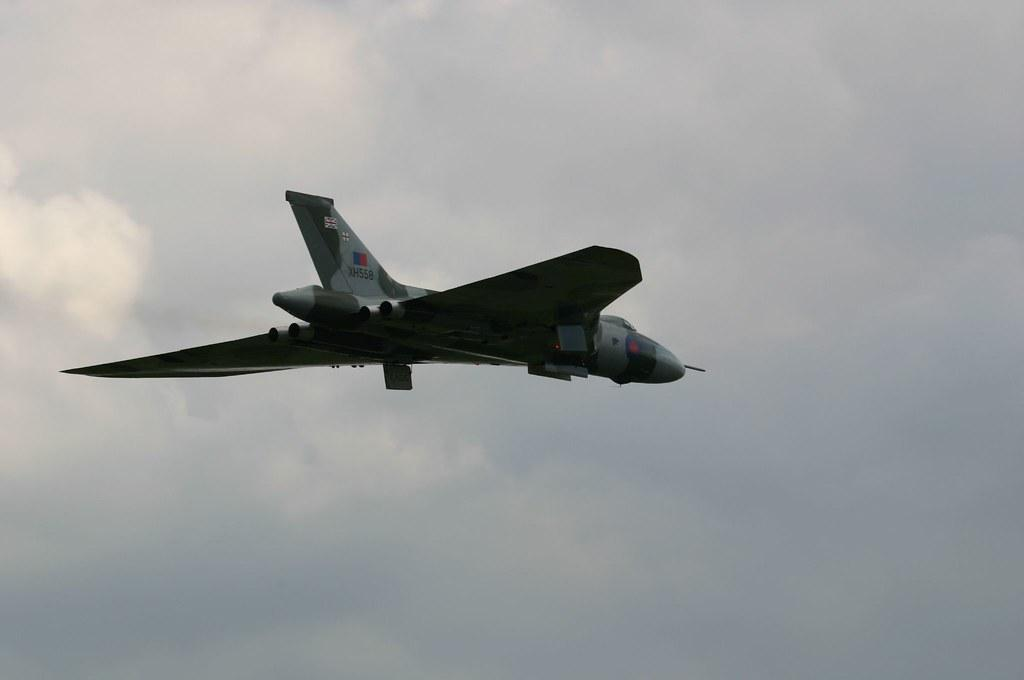plane: (59, 189, 707, 391)
